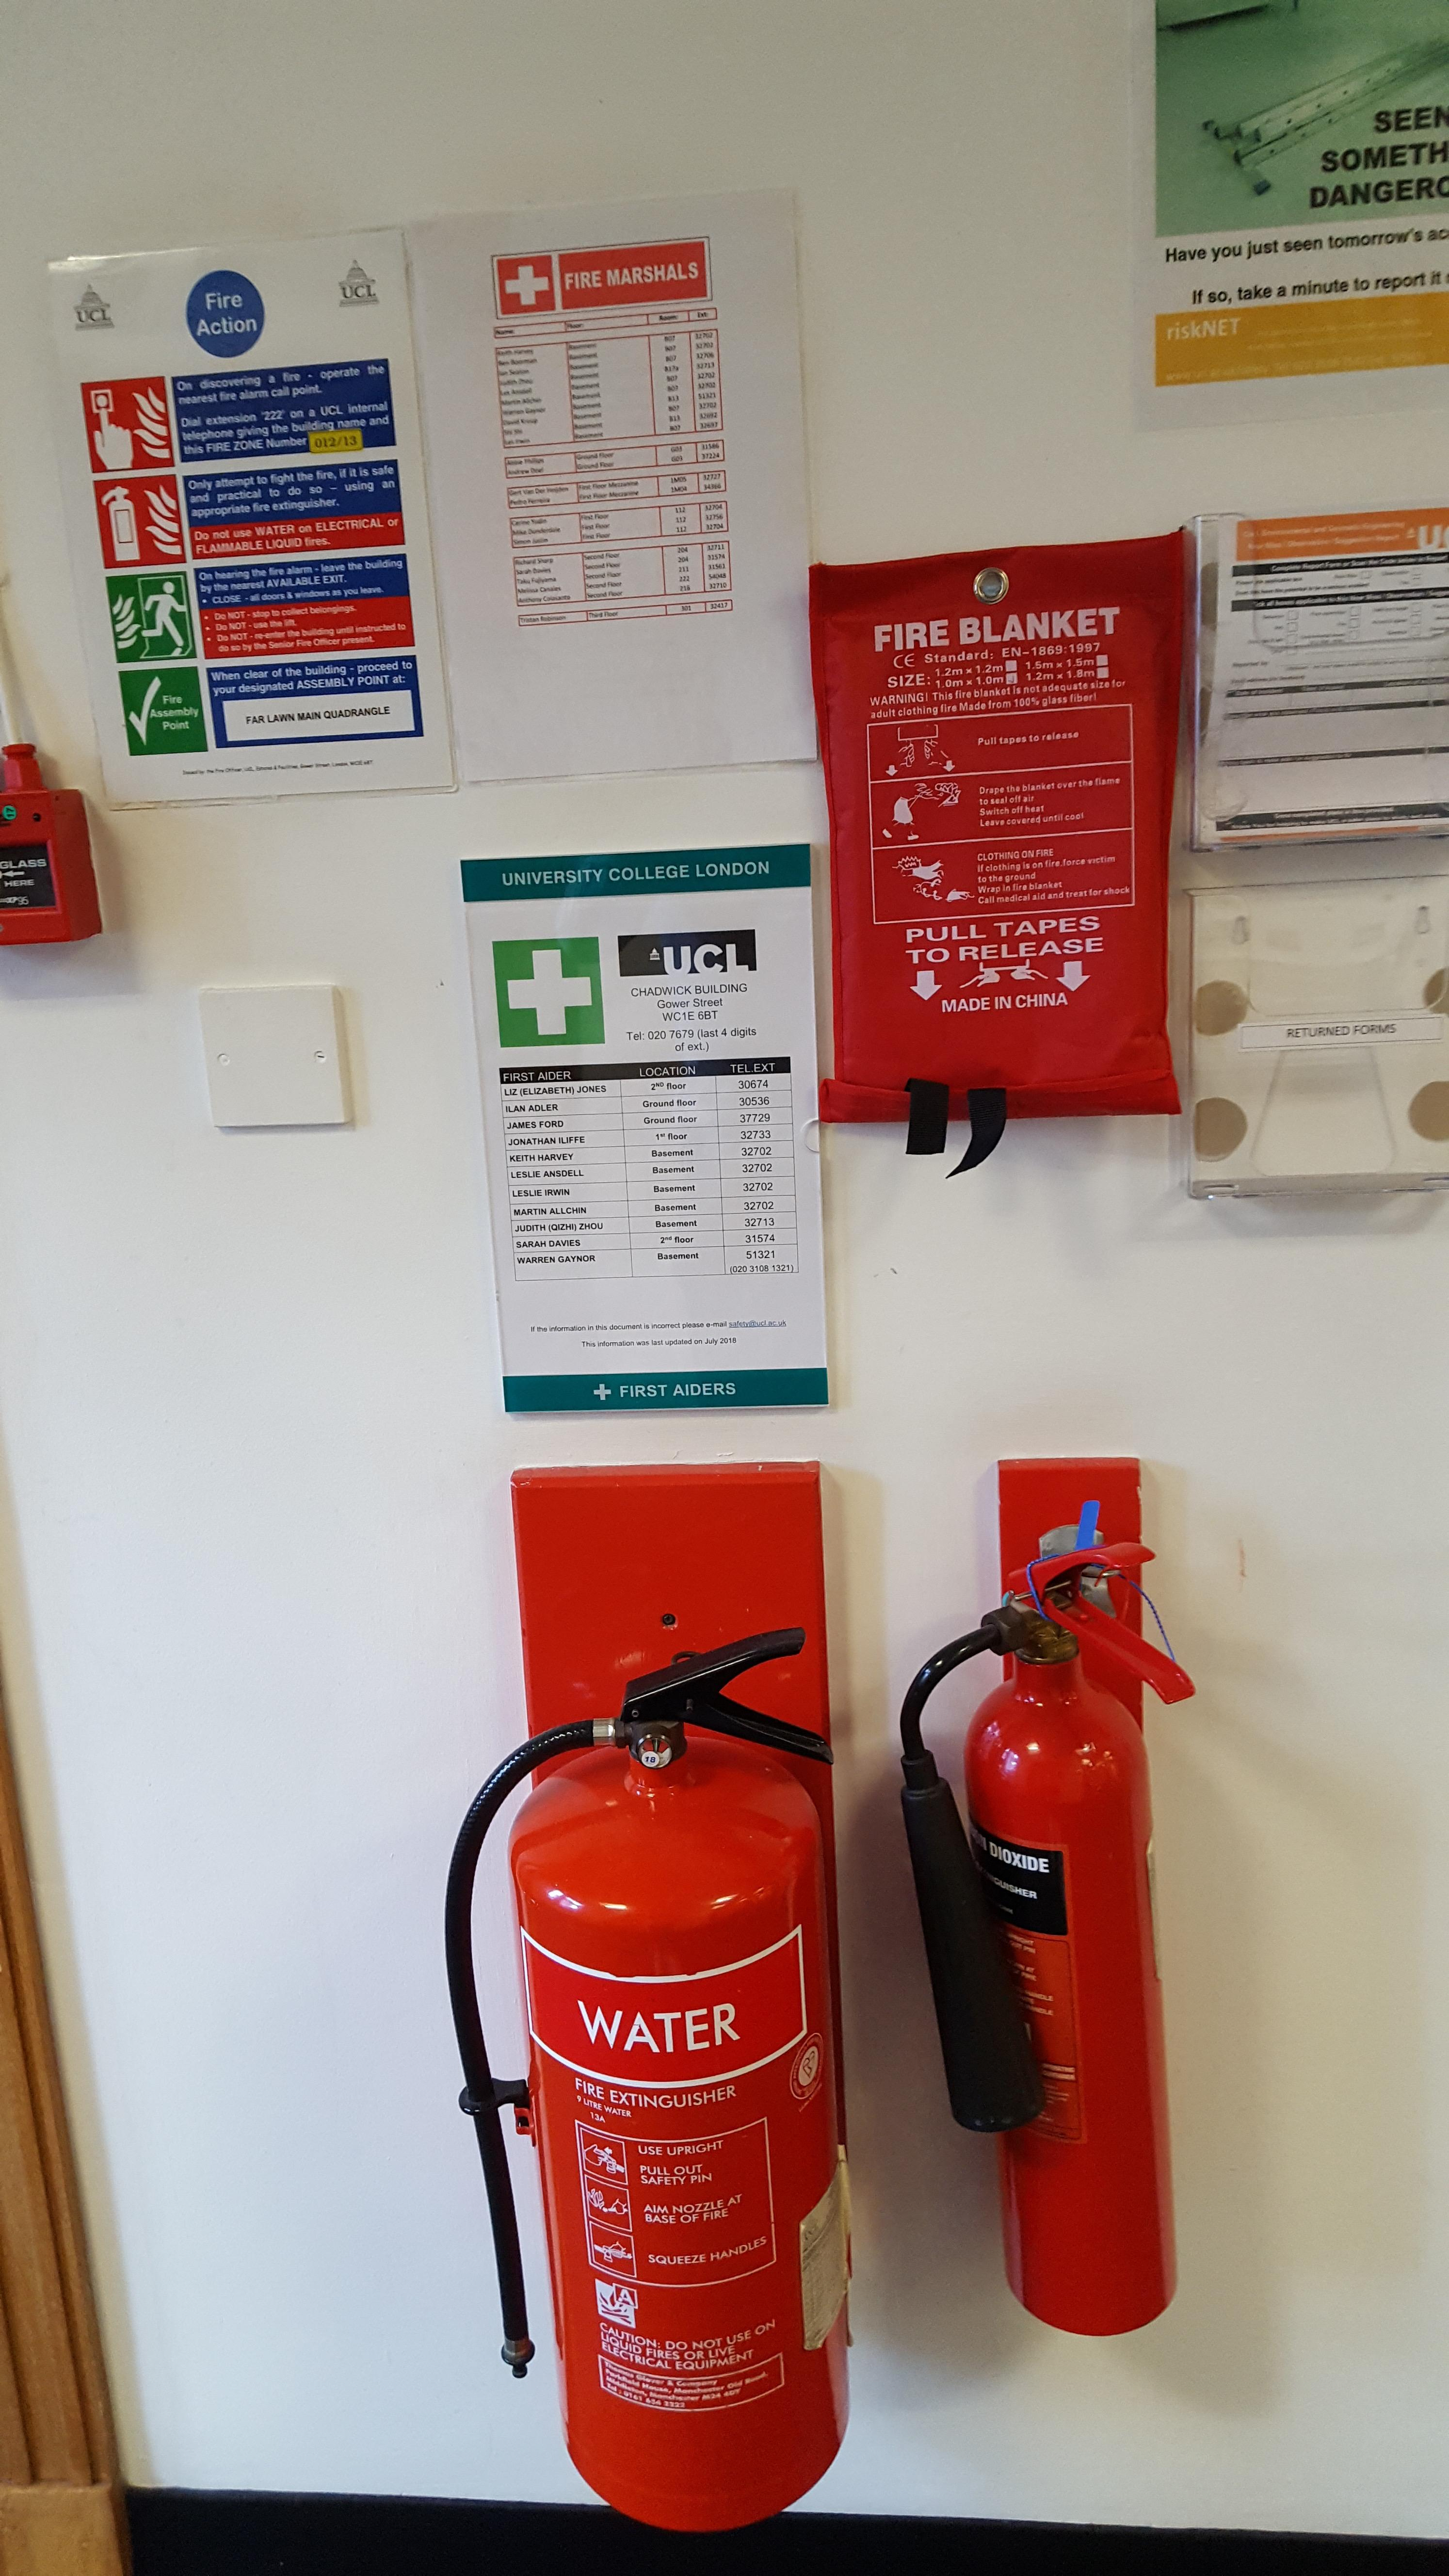blanket: (809, 525, 1184, 1123)
call_point: (0, 789, 103, 947)
extinguisher: (444, 1626, 849, 2534), (899, 1539, 1194, 2335)
